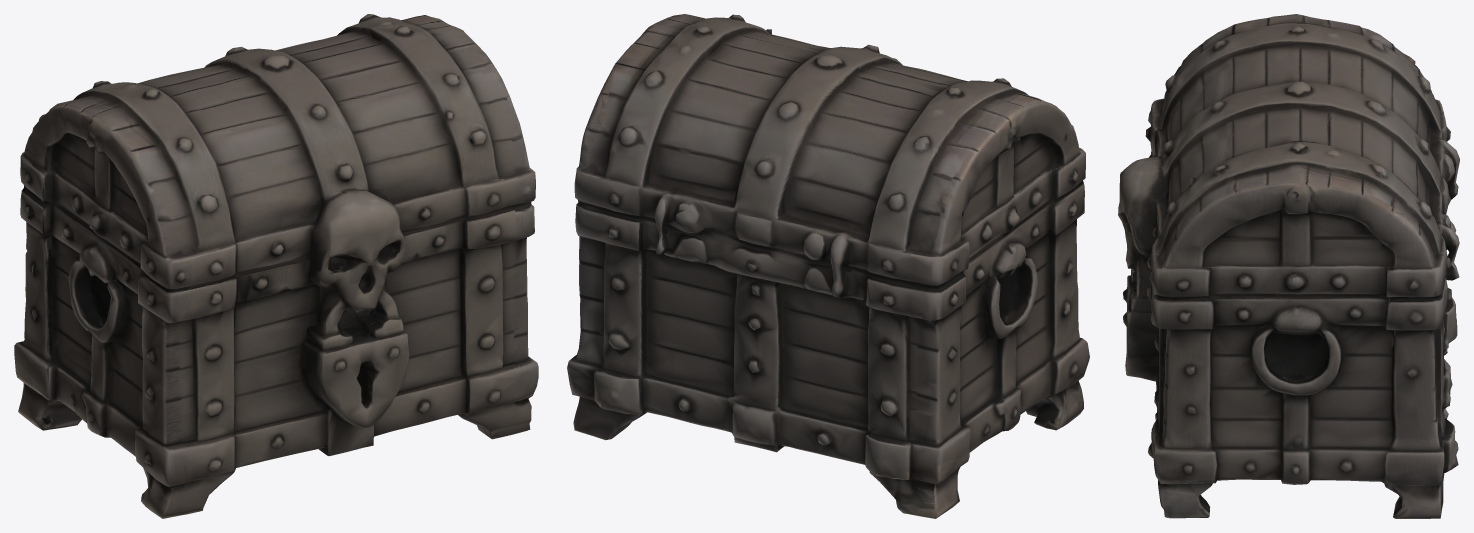
The model's file is treasure_chest_locked.glb.
3 views of the same model, side by side, from view 1: azimuth 30°, elevation 25°; view 2: azimuth 150°, elevation 25°; view 3: azimuth 270°, elevation 25° (orthographic). The views are drawn at different scales.
Size of the model in its own units: 2 by 1.86 by 1.64.
Materials: 1 (1 with a texture image).
